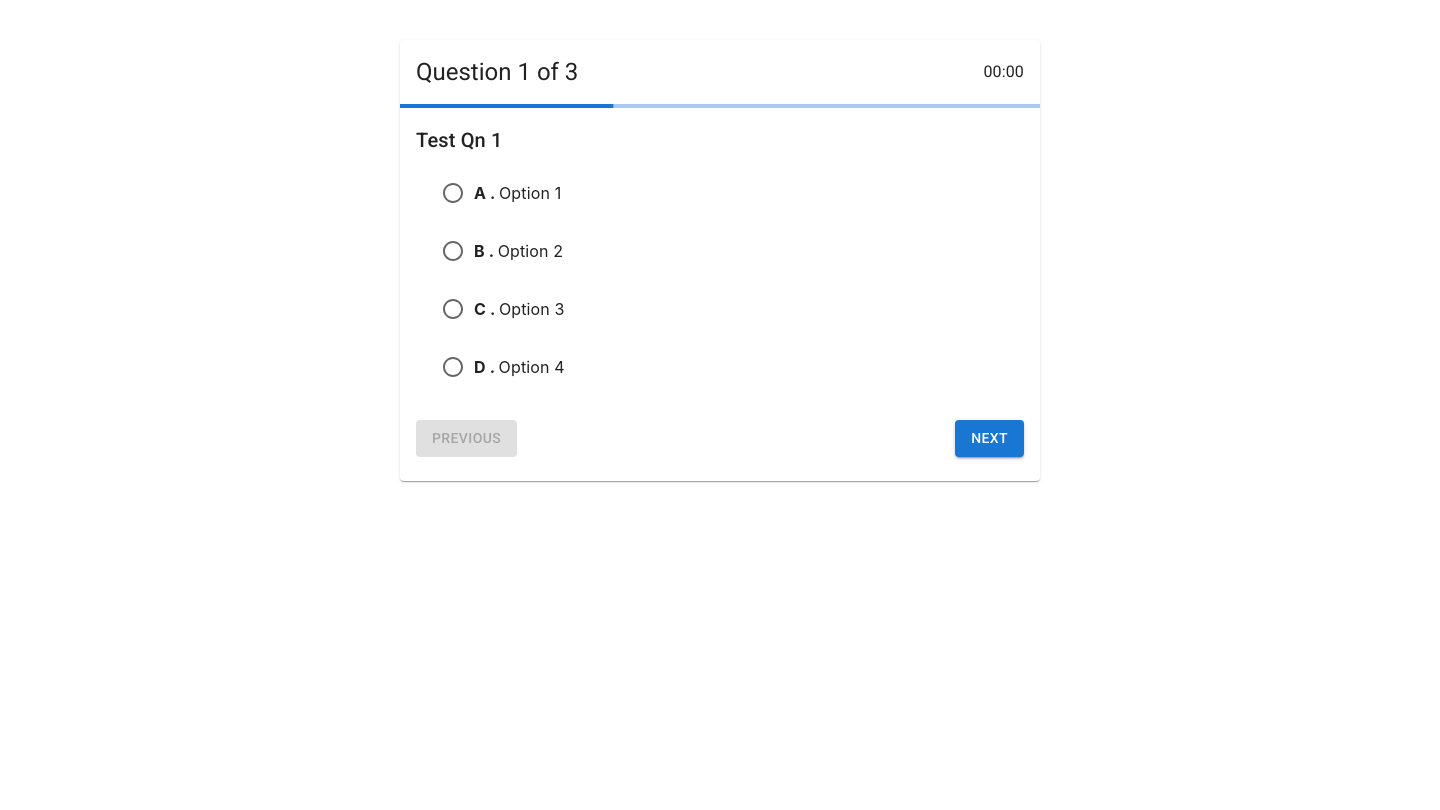
Test: Quiz Component › shows prompt when trying to finish with unanswered questions
Check: the heading "Test Qn 1" is shown, box [416, 128, 502, 152]
Note: Navigate to last question without answering any
What coordinates should you click on to do the following:
click the button "Next"
I would click on:
 (990, 438)
Its box is [955, 420, 1024, 456].
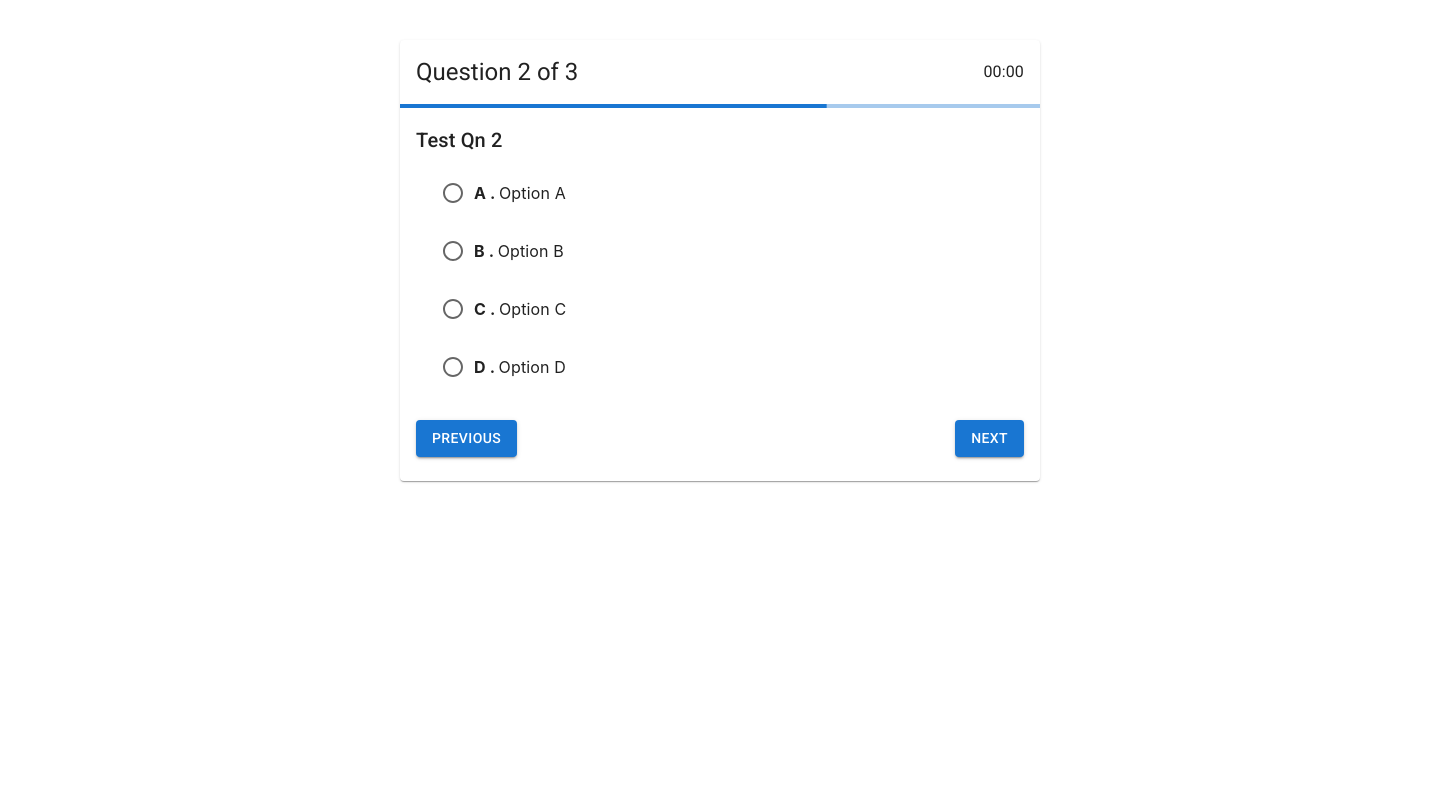
What coordinates should you click on to do the following:
click the button "Next"
I would click on:
 (990, 438)
Its box is [955, 420, 1024, 456].
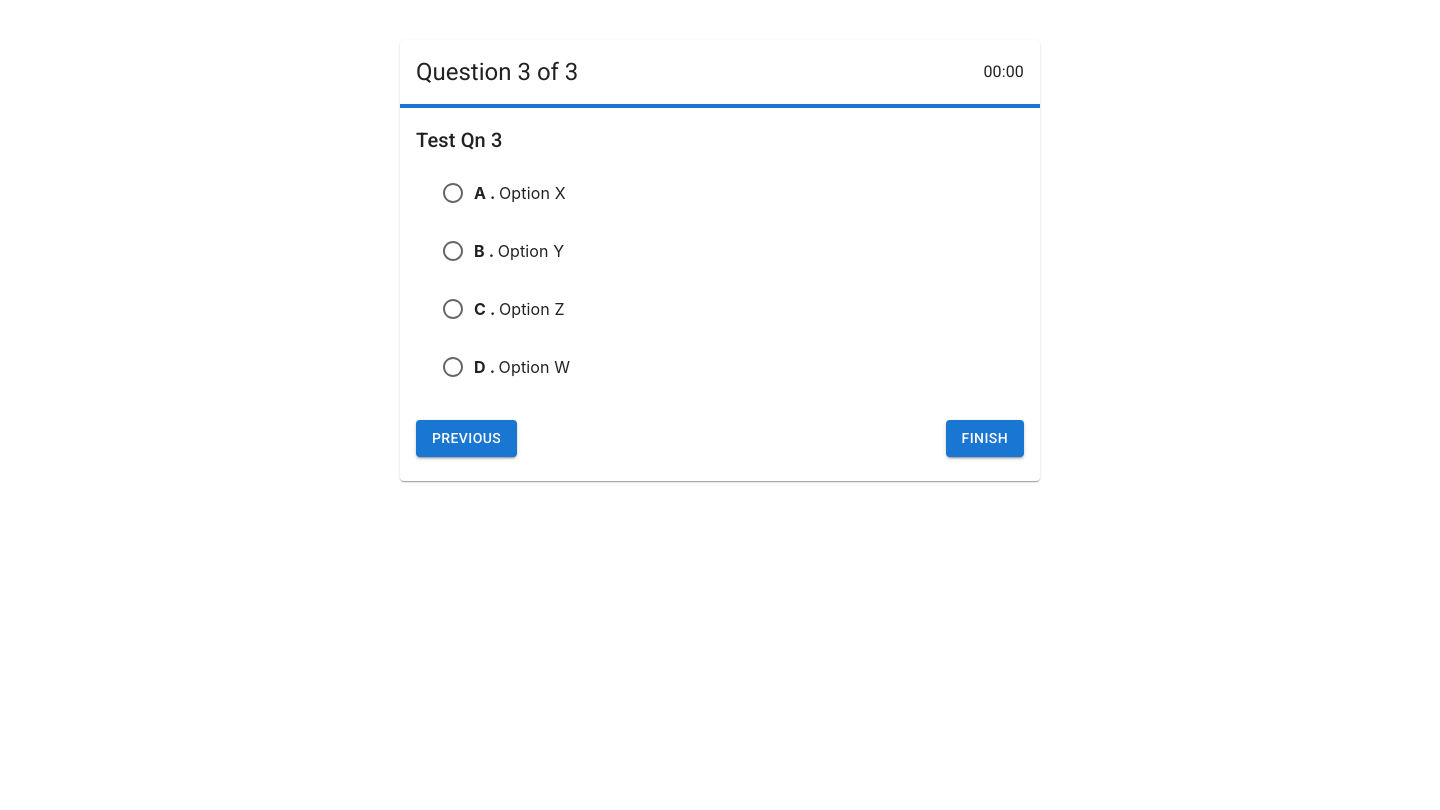
Note: Try to finish
What coordinates should you click on to do the following:
click the button "Finish"
I would click on:
 (985, 438)
Its box is [946, 420, 1024, 456].
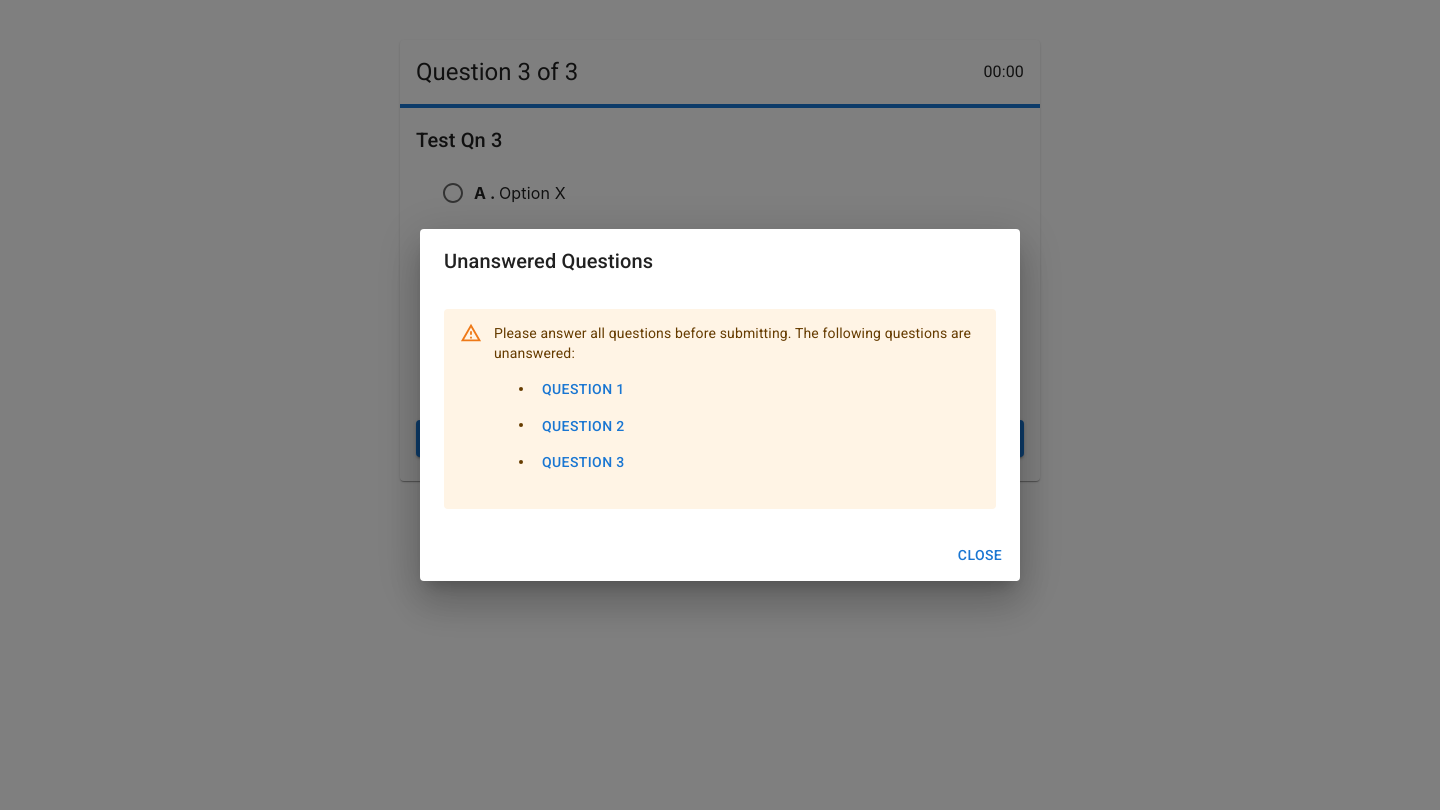
Check: the dialog is shown, box [420, 229, 1020, 581]
Check: the heading "Unanswered Questions" is shown, box [444, 249, 653, 273]
Check: the text "Please answer all questions before submitting" is shown, box [494, 325, 971, 361]
